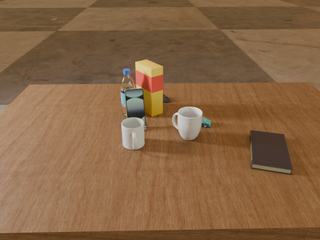book: (250, 130, 293, 175)
bottle: (121, 69, 135, 116)
box: (136, 60, 163, 117)
cup: (173, 107, 203, 140), (122, 118, 145, 150)
mouse: (163, 94, 171, 103)
phone: (124, 88, 146, 126)
toy_car: (202, 117, 211, 127)
